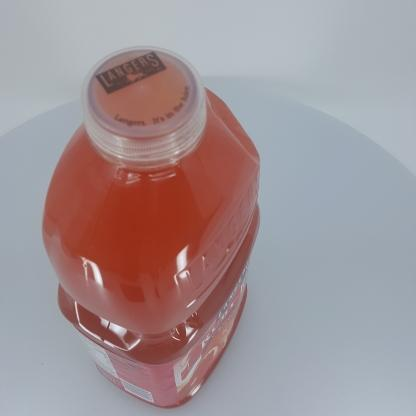---------------: (41, 45, 260, 409)
